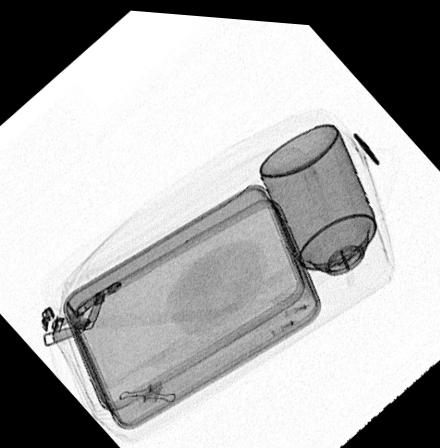Sprayer: (256, 114, 392, 302)
